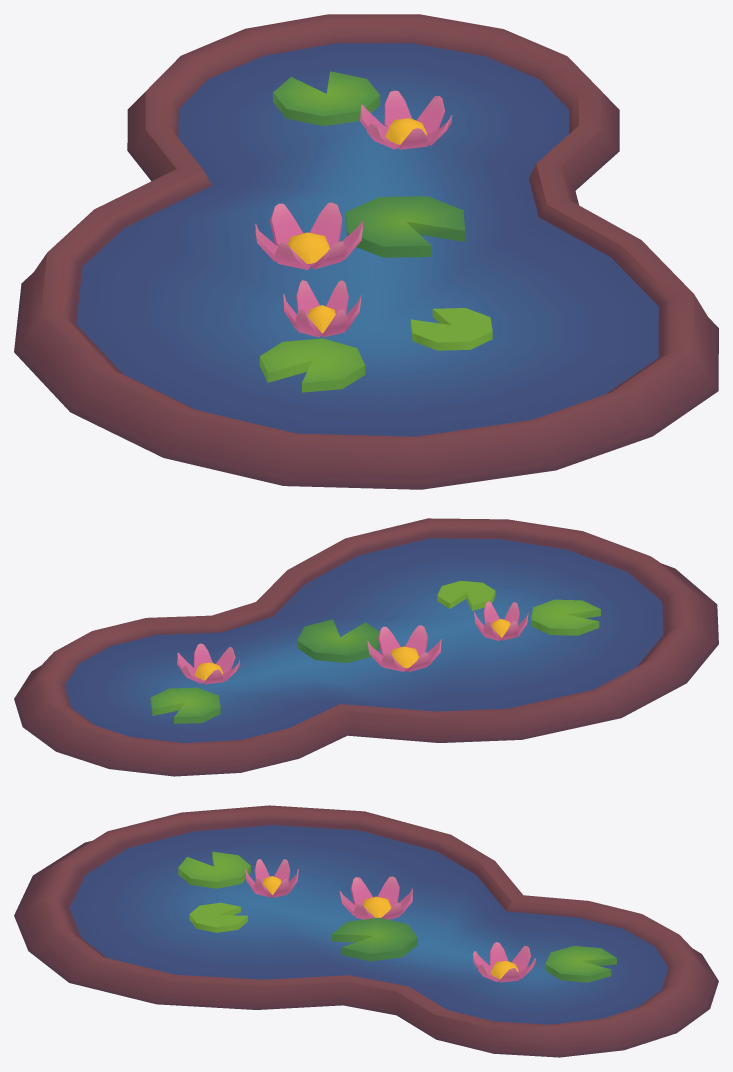
File: village_town_pond.glb
3 views of the same model, one above another, from view 1: azimuth 30°, elevation 25°; view 2: azimuth 150°, elevation 25°; view 3: azimuth 270°, elevation 25° (orthographic). The views are drawn at different scales.
Visible parts, largest first — view 1: Pond.001_Material.005_0; view 2: Pond.001_Material.005_0; view 3: Pond.001_Material.005_0.
Part boxes in pixels (left/top/right/bottom): Pond.001_Material.005_0: left=14, top=14, right=718, bottom=489; Pond.001_Material.005_0: left=14, top=518, right=718, bottom=776; Pond.001_Material.005_0: left=14, top=805, right=718, bottom=1057.
Size of the model in its own units: 7.15 by 0.4458 by 8.77.
1 material, 1 textured.
